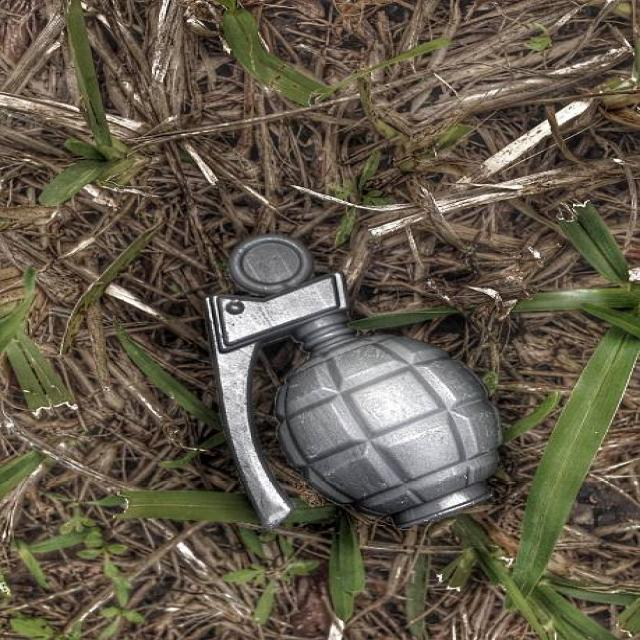grenade: (196, 231, 507, 532)
